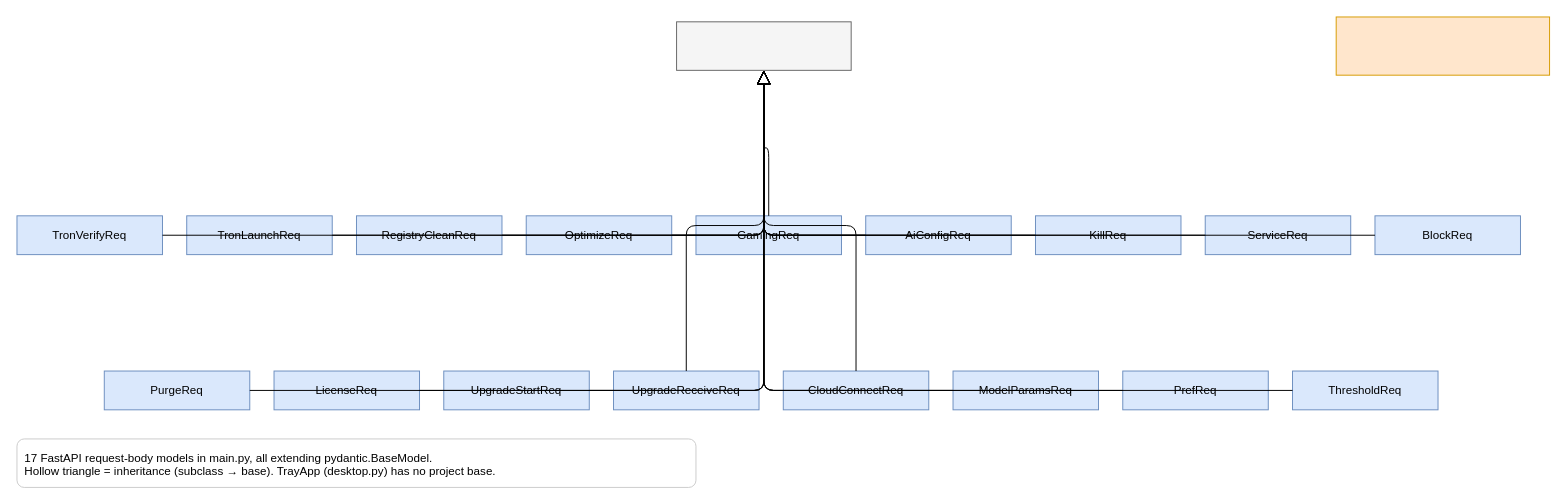
Some shapes in this 1567 by 504 pixel diagram are drawn without their labels. The centre of each missing label's shape, as x and y in pixels:
"BaseModel «pydantic»" goes at pixel 763 45.
"TrayApp (desktop.py — pystray tray app, no base)" goes at pixel 1442 45.
